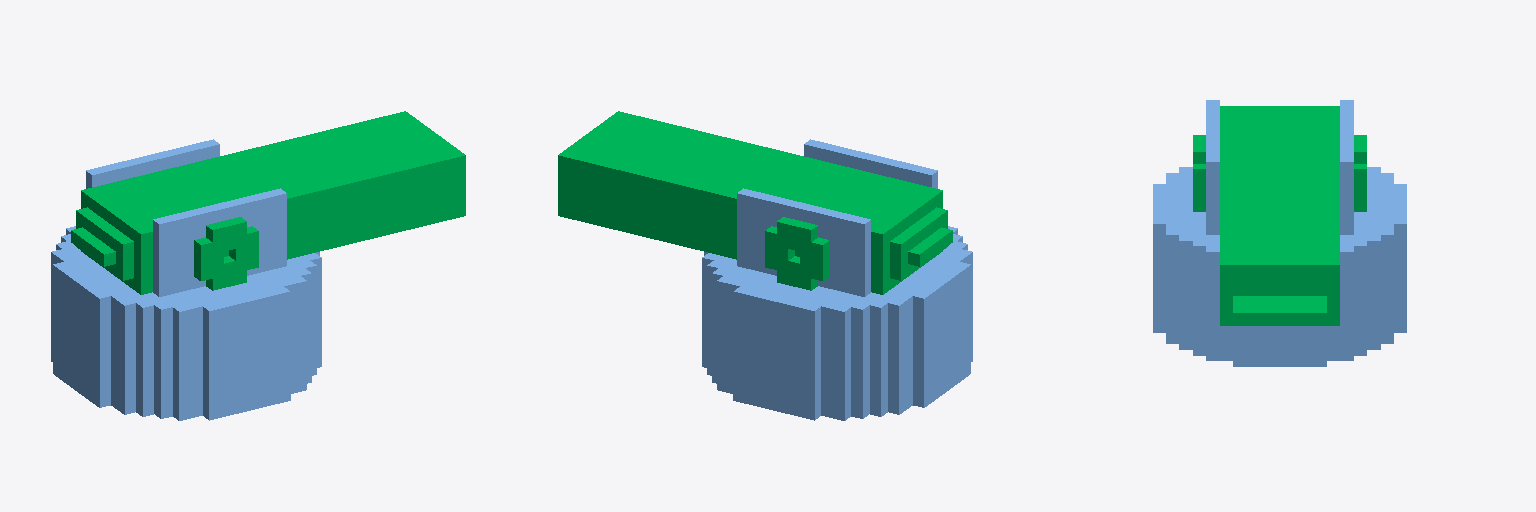
The picture shows the model from 3 angles: view 1: azimuth 30°, elevation 25°; view 2: azimuth 150°, elevation 25°; view 3: azimuth 270°, elevation 25°; orthographic projection.
Bounding box in the file's own units: 31 × 15 × 19.
1 materials, 1 textured.